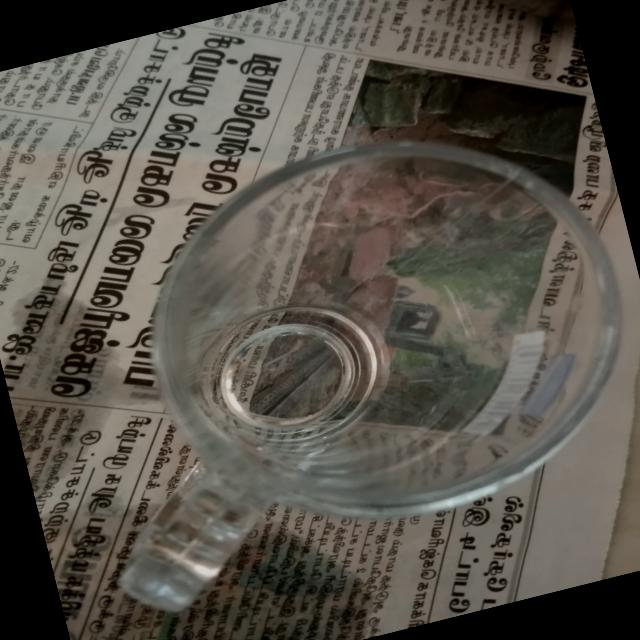glass-VX4N: (26, 87, 640, 624)
